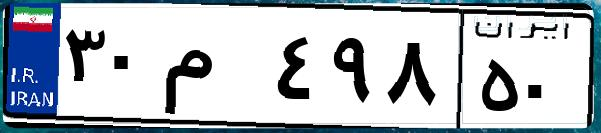0: (525, 38, 570, 115), (110, 28, 158, 98)
3: (57, 26, 110, 100)
4: (270, 28, 330, 110)
5: (475, 38, 525, 113)
8: (385, 28, 445, 110)
9: (330, 28, 385, 110)
م: (158, 20, 270, 120)
